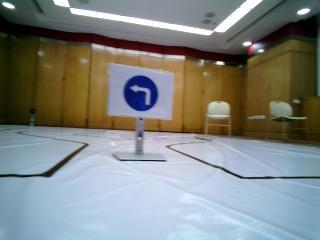left: (109, 65, 176, 118)
